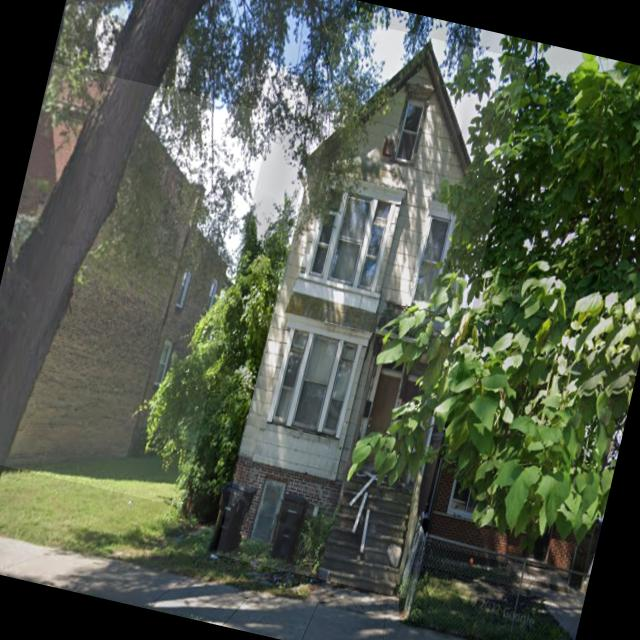House: (216, 17, 528, 599), (0, 62, 272, 507), (418, 273, 640, 603)
